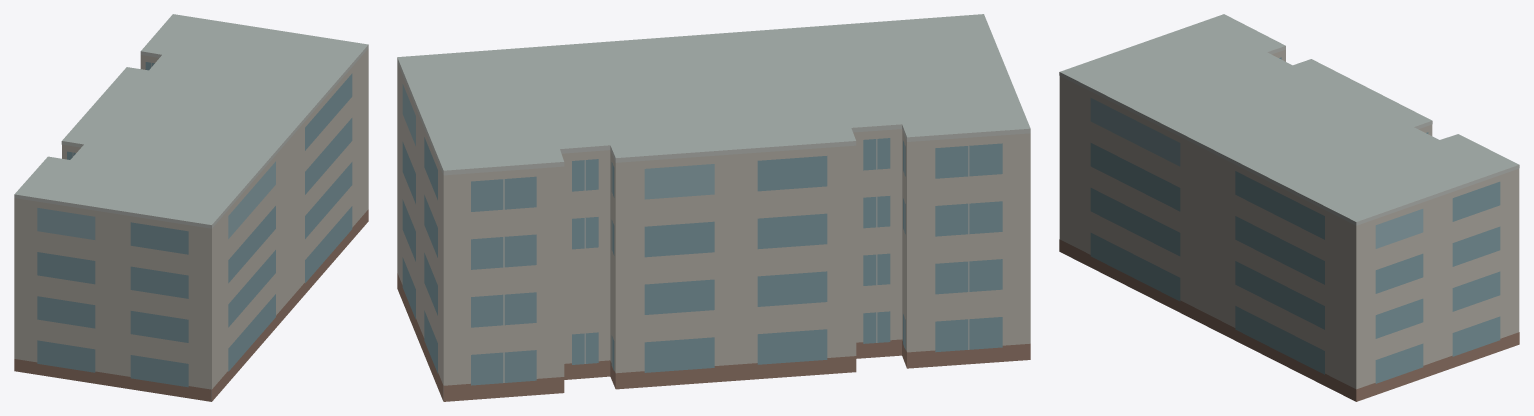
File: survey-upis-32840989.glb
3 renders of one model, left to right at view 1: azimuth 30°, elevation 25°; view 2: azimuth 150°, elevation 25°; view 3: azimuth 270°, elevation 25°, orthographic. The views are drawn at different scales.
Parts seen in each view (by area): view 1: survey-upis-32840989.tmp; view 2: survey-upis-32840989.tmp; view 3: survey-upis-32840989.tmp.
Part boxes in pixels (box(x1,y1,x2,y2)): survey-upis-32840989.tmp: box(14, 14, 368, 401); survey-upis-32840989.tmp: box(397, 14, 1030, 401); survey-upis-32840989.tmp: box(1059, 14, 1519, 401).
Bounding box in the file's own units: 29.55 × 11.9 × 27.59.
